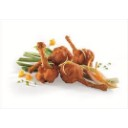chicken_lollipop: (59, 60, 110, 91), (65, 33, 96, 64), (35, 41, 57, 83)
